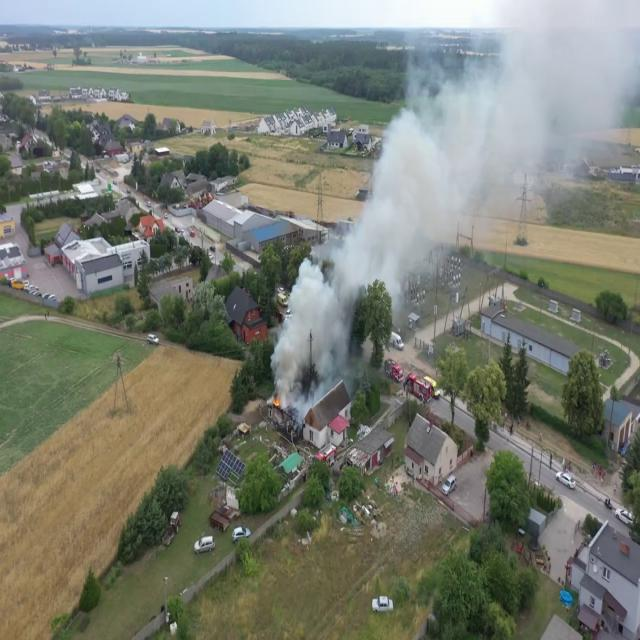Smoke: (401, 0, 640, 244), (271, 127, 424, 418)
